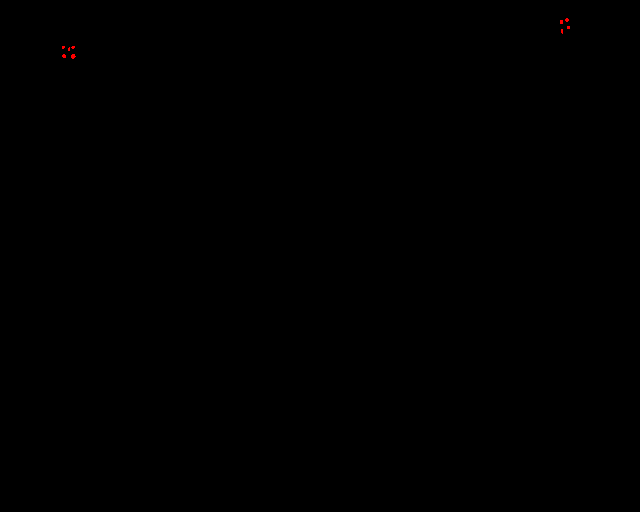Target: (71, 54, 76, 59), (565, 18, 569, 22), (62, 54, 66, 58), (560, 20, 563, 24), (71, 46, 75, 49), (561, 29, 563, 34), (567, 26, 570, 29), (62, 46, 65, 49), (68, 47, 70, 51)
